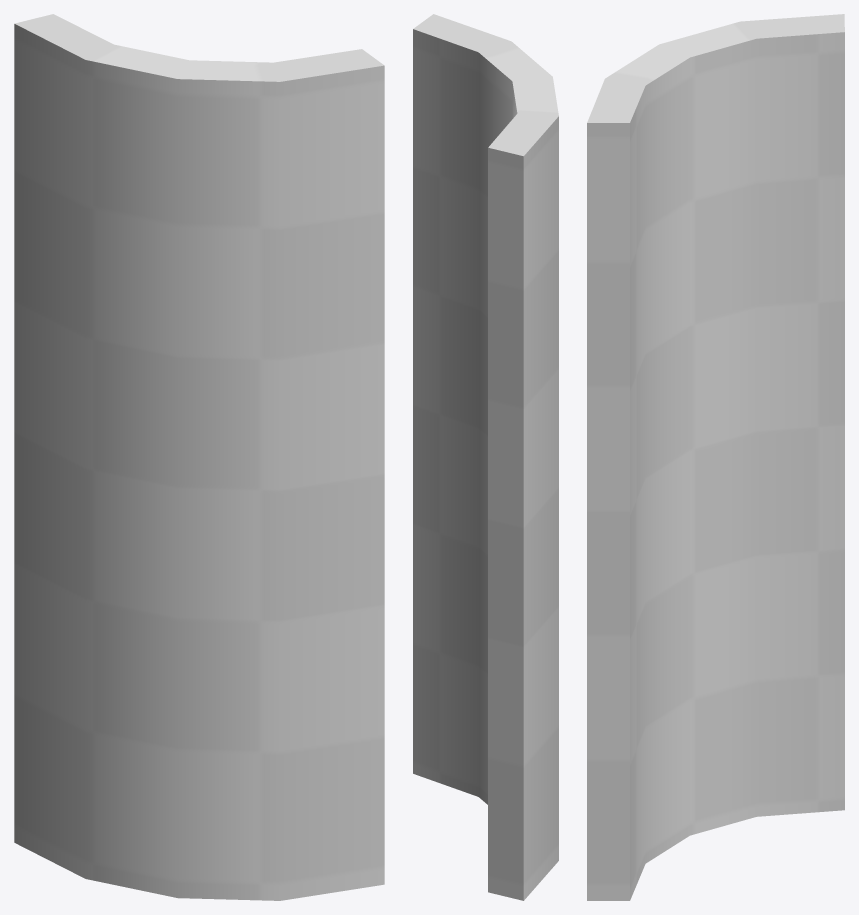
The model's file is enginehall_end_corner_right_round.fbx.
The picture shows the model from 3 angles, left to right: view 1: azimuth 30°, elevation 25°; view 2: azimuth 150°, elevation 25°; view 3: azimuth 270°, elevation 25°; orthographic projection. The views are drawn at different scales.
Visible parts, largest first — view 1: enginehall_end_corner_right_round; view 2: enginehall_end_corner_right_round; view 3: enginehall_end_corner_right_round.
Boxes of the visible parts, x1,y1,x2,y2 form: enginehall_end_corner_right_round: [14, 14, 384, 900]; enginehall_end_corner_right_round: [413, 14, 558, 900]; enginehall_end_corner_right_round: [587, 14, 844, 900].
Bounding box in the file's own units: 120 × 400 × 120.
